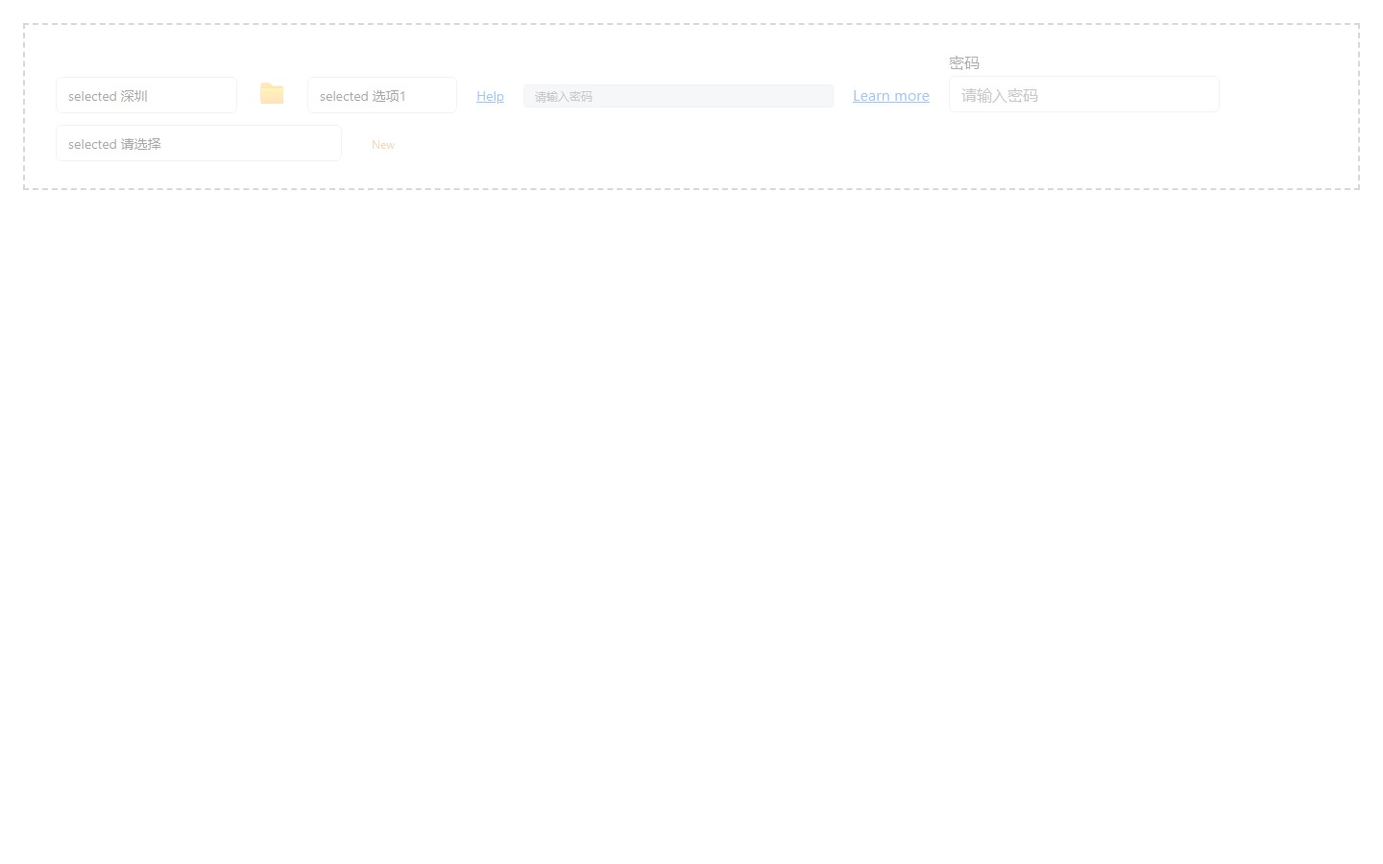button: (361, 133, 405, 154)
icon: (256, 79, 288, 102)
input: (949, 76, 1220, 112), (523, 84, 833, 107)
link: (853, 84, 930, 104), (476, 86, 504, 104)
modal: (23, 23, 1360, 190)
select: (56, 125, 342, 161), (56, 77, 237, 113), (307, 77, 457, 113)
